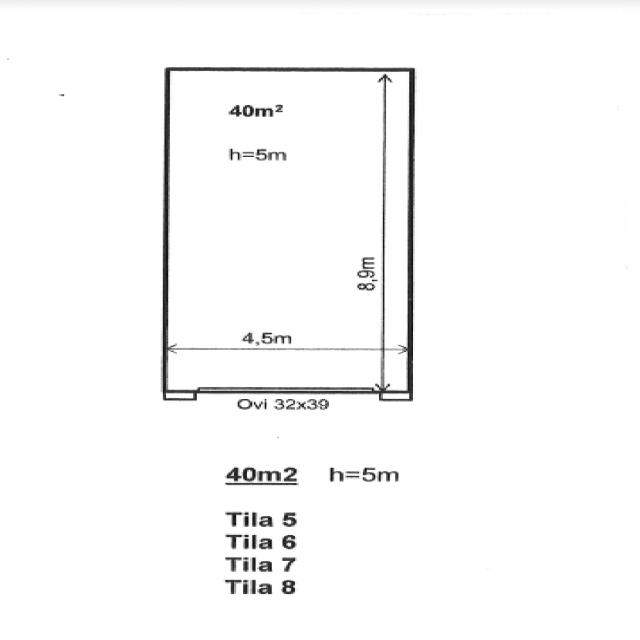window: (181, 383, 382, 402)
zone: (162, 67, 406, 371)
